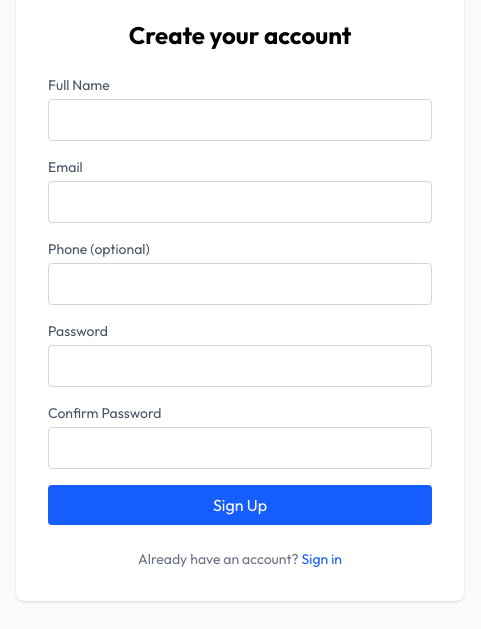
Test case: RegisterPage › shows validation errors returned by the API
This screenshot has width=481, height=629.
Step 1. Type "New User" into the field labelled "Full Name" → coordinates (240, 120), box [48,99,432,141]
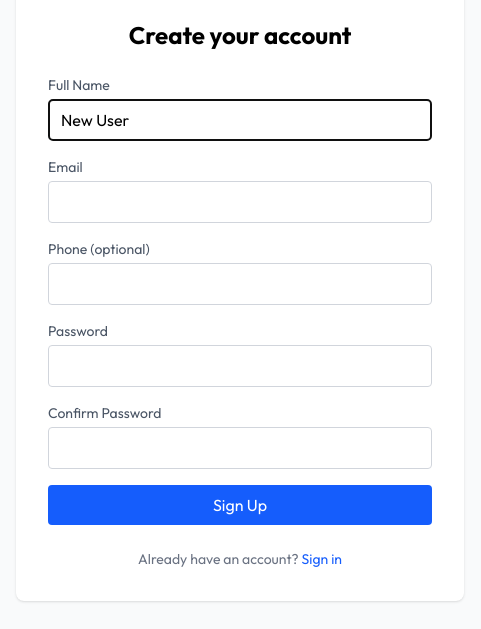
Step 2. Type "taken@example.com" into the field labelled "Email" → coordinates (240, 202), box [48,181,432,223]
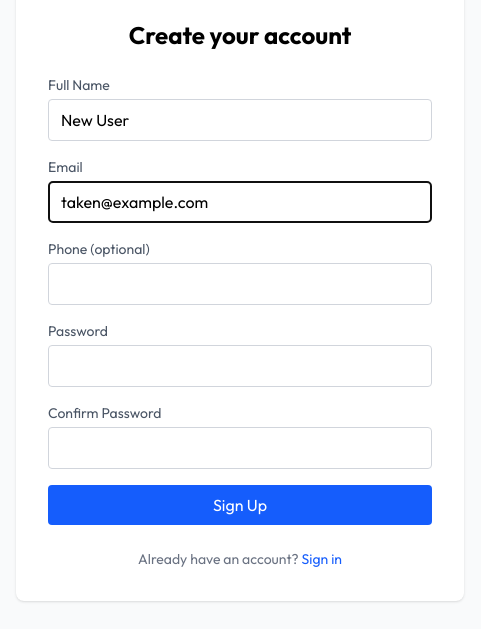
Step 3. Type "Password1" into the password field labelled "Password" → coordinates (240, 366), box [48,345,432,387]
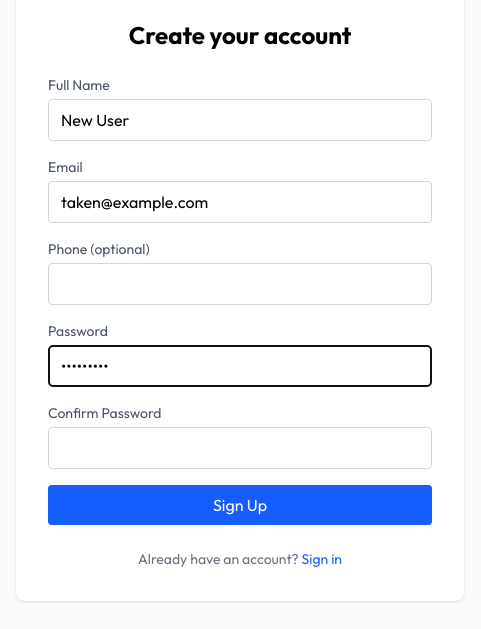
Step 4. Type "Password1" into the password field labelled "Confirm Password" → coordinates (240, 448), box [48,427,432,469]
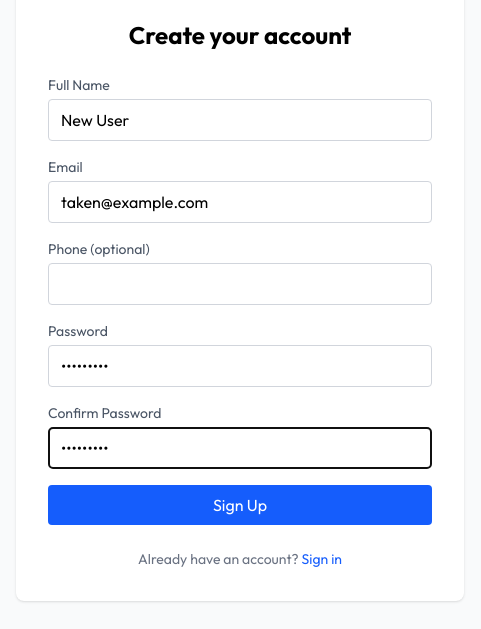
Step 5. Click the button "Sign Up" → coordinates (240, 505), box [48,485,432,525]
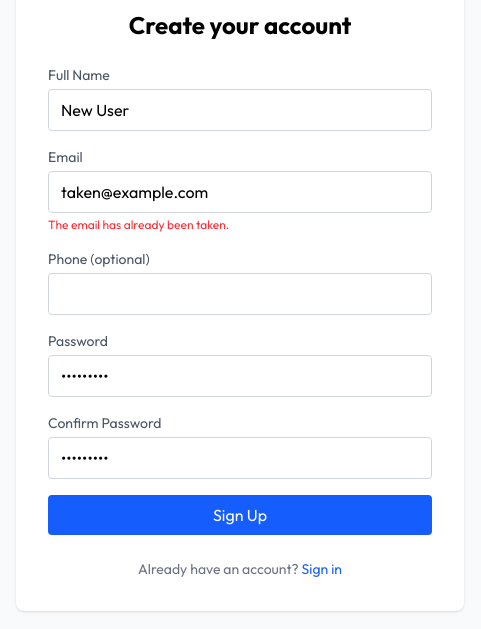
Expected: the text "The email has already been taken." is shown, [48,217,229,232]
